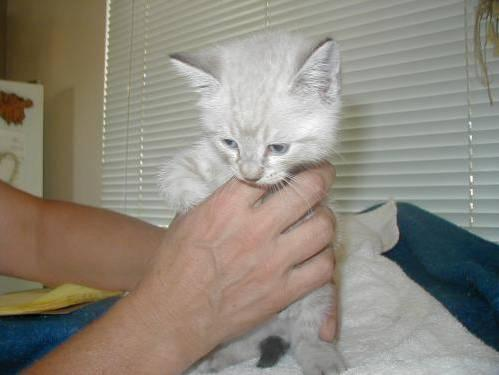cat: (160, 30, 341, 212), (218, 316, 338, 374)
